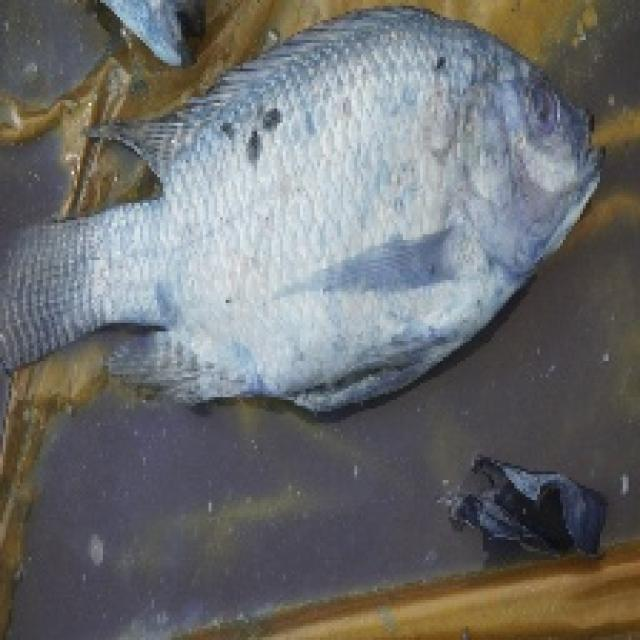Non-Fresh: (80, 43, 626, 398)
